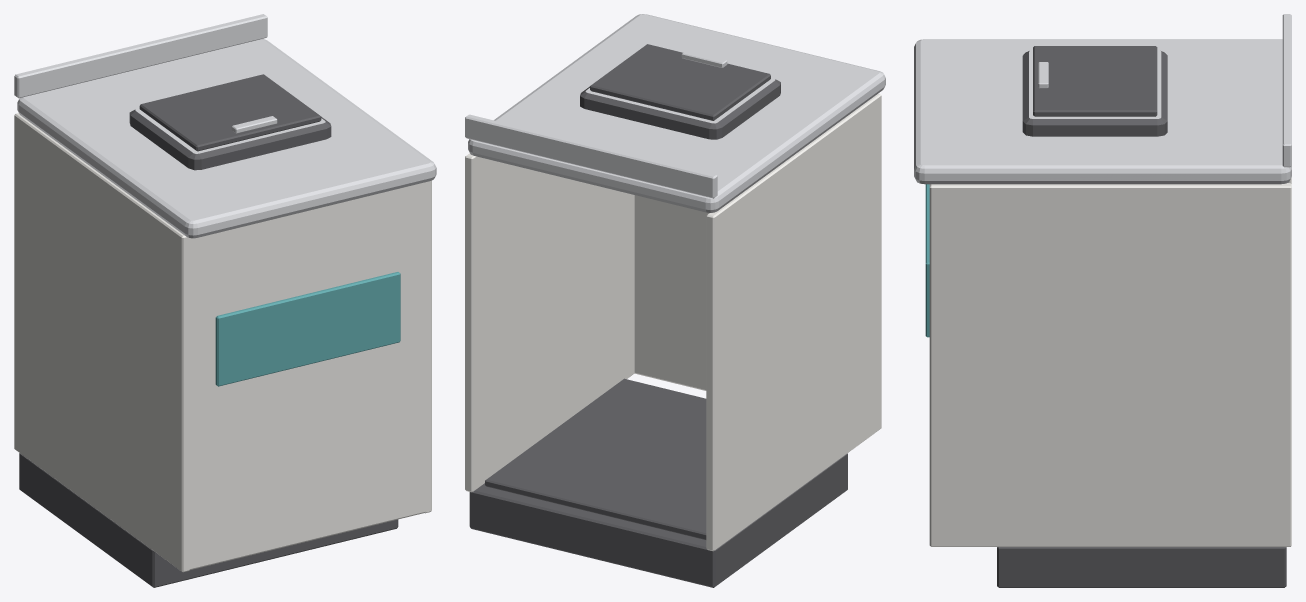
The model's file is fast-food-and-drive-thru-counter-bin-surround-23ba6364__16116.glb.
3 renders of one model, left to right at view 1: azimuth 30°, elevation 25°; view 2: azimuth 150°, elevation 25°; view 3: azimuth 270°, elevation 25°, orthographic. The views are drawn at different scales.
Parts seen in each view (by area): view 1: counter-bin-surround, waste-flap/dark; view 2: counter-bin-surround, waste-flap/dark; view 3: counter-bin-surround, waste-flap/dark.
Boxes of the visible parts, x1,y1,x2,y2 form: counter-bin-surround: [14, 14, 436, 587]; waste-flap/dark: [139, 74, 321, 151]; counter-bin-surround: [465, 14, 885, 587]; waste-flap/dark: [590, 44, 770, 120]; counter-bin-surround: [914, 14, 1291, 587]; waste-flap/dark: [1033, 46, 1157, 116].
Bounding box in the file's own units: 0.6001 × 0.964 × 0.73.
